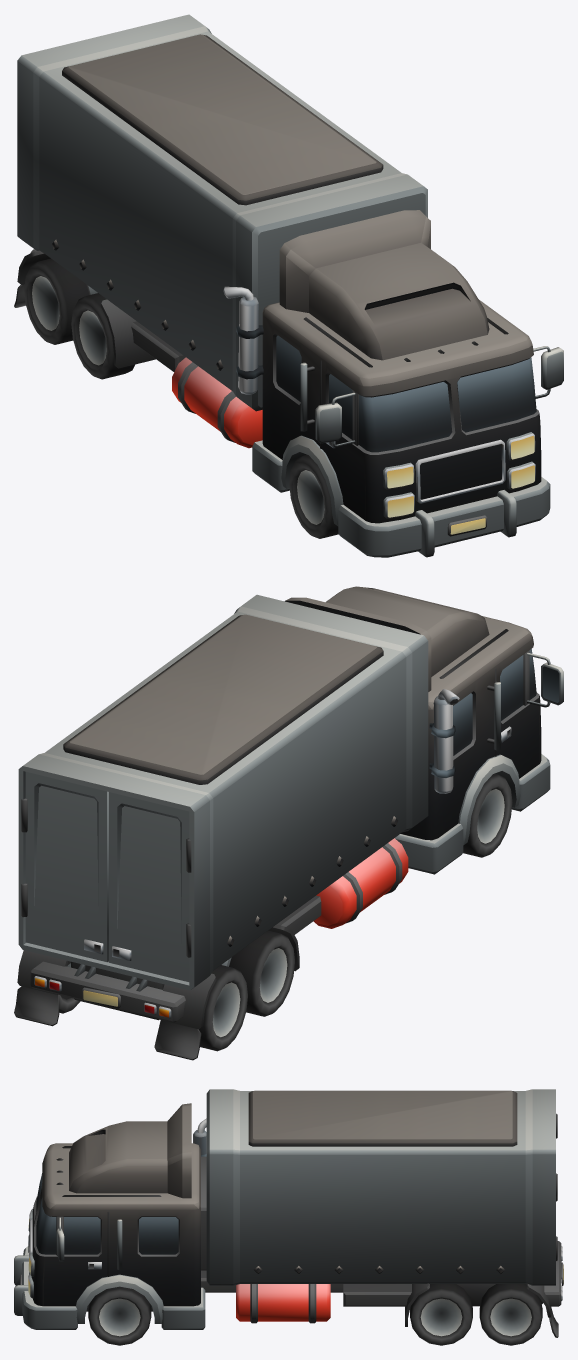
Rendered from Truck_1A.fbx.
The picture shows the model from 3 angles, top to bottom: view 1: azimuth 30°, elevation 25°; view 2: azimuth 150°, elevation 25°; view 3: azimuth 270°, elevation 25°; orthographic projection. The views are drawn at different scales.
Visible parts, largest first — view 1: Truck_1A, Truck_1A_Wheel_R.R, Truck_1A_Wheel_M.R, Truck_1A_Wheel_F.R; view 2: Truck_1A, Truck_1A_Door_R.L, Truck_1A_Door_R.R, Truck_1A_Wheel_M.R, Truck_1A_Wheel_R.R, Truck_1A_Wheel_F.R; view 3: Truck_1A, Truck_1A_Wheel_R.L, Truck_1A_Wheel_M.L, Truck_1A_Wheel_F.L.
Part boxes in pixels (left/top/right/bottom): Truck_1A: left=14, top=14, right=563, bottom=557; Truck_1A_Wheel_R.R: left=24, top=258, right=90, bottom=344; Truck_1A_Wheel_M.R: left=71, top=293, right=134, bottom=379; Truck_1A_Wheel_F.R: left=289, top=454, right=338, bottom=538; Truck_1A: left=14, top=586, right=563, bottom=1060; Truck_1A_Door_R.L: left=21, top=772, right=108, bottom=962; Truck_1A_Door_R.R: left=108, top=792, right=191, bottom=981; Truck_1A_Wheel_M.R: left=229, top=930, right=294, bottom=1016; Truck_1A_Wheel_R.R: left=199, top=965, right=247, bottom=1051; Truck_1A_Wheel_F.R: left=463, top=773, right=512, bottom=857; Truck_1A: left=14, top=1089, right=563, bottom=1337; Truck_1A_Wheel_R.L: left=479, top=1284, right=542, bottom=1345; Truck_1A_Wheel_M.L: left=410, top=1284, right=472, bottom=1345; Truck_1A_Wheel_F.L: left=88, top=1286, right=151, bottom=1345.
Bounding box in the file's own units: 3.64 × 3.8 × 9.53.
